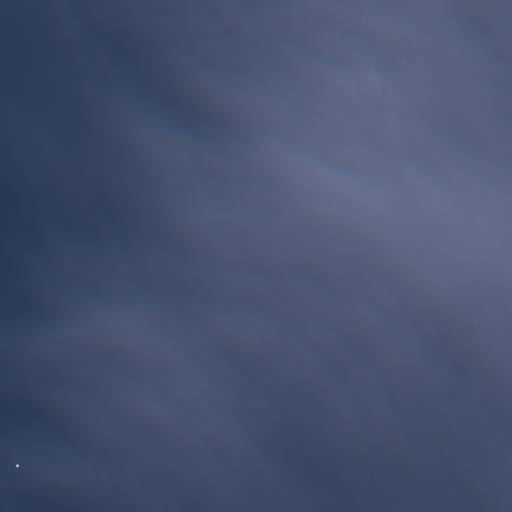Iceberg: (16, 464, 18, 467)
